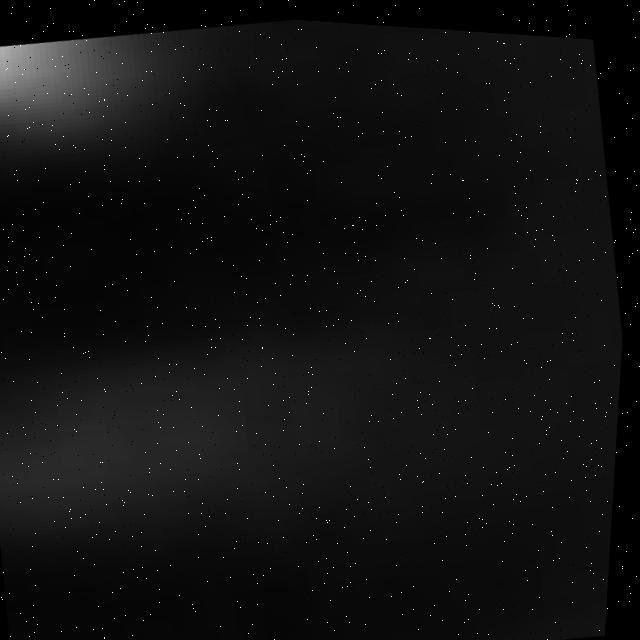person: (1, 22, 177, 170)
